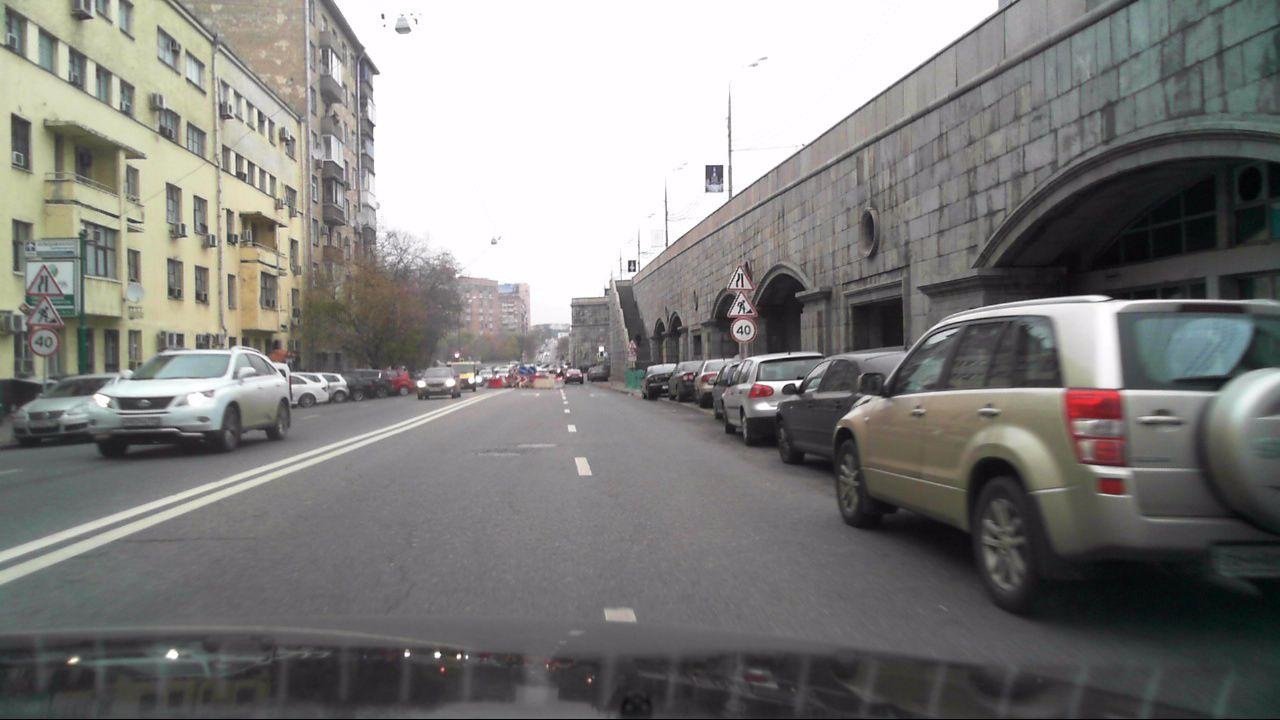1_20_2: (628, 338, 636, 348)
1_20_3: (725, 263, 754, 291)
1_25: (726, 291, 759, 319), (627, 348, 637, 355)
1_34_1: (516, 374, 530, 383)
3_24: (728, 318, 757, 343)
4_2_1: (528, 364, 536, 375), (519, 365, 528, 374)
8_1_3: (628, 356, 637, 361)
